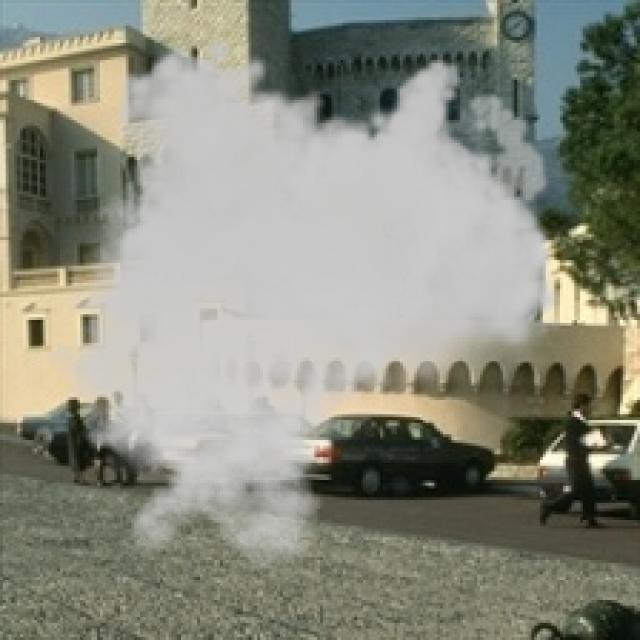Smoke: (23, 34, 563, 572)
